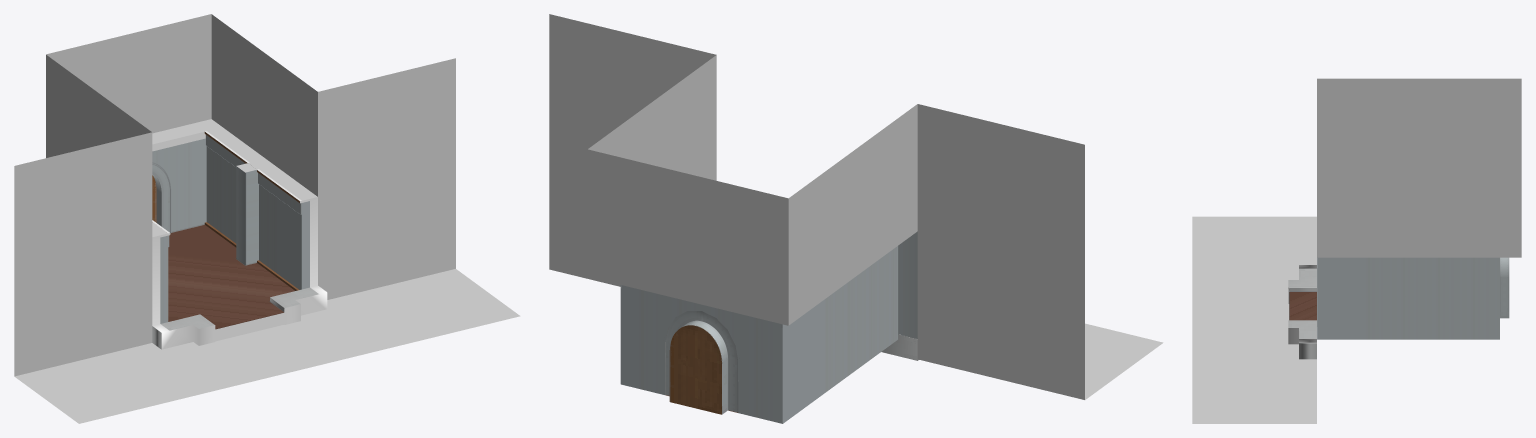
The model's file is a_com_house_a04.gltf.
3 renders of one model, left to right at view 1: azimuth 30°, elevation 25°; view 2: azimuth 150°, elevation 25°; view 3: azimuth 270°, elevation 25°, orthographic. The views are drawn at different scales.
Parts seen in each view (by area): view 1: outside_black_mesh_shape:a_com_house_a04_outside_black01, um_a_com_house_a04_model_a_com_house_a04_modelShape:a_com_ho (×6), nomerge_outside_edge_shape:mat_texture_edge01; view 2: outside_black_mesh_shape:a_com_house_a04_outside_black01, um_a_com_house_a04_model_a_com_house_a04_modelShape:a_com_ho (×4); view 3: outside_black_mesh_shape:a_com_house_a04_outside_black01, um_a_com_house_a04_model_a_com_house_a04_modelShape:a_com_ho (×4), nomerge_outside_edge_shape:mat_texture_edge01.
Boxes of the visible parts, x1,y1,x2,y2 form: outside_black_mesh_shape:a_com_house_a04_outside_black01: (14,14,520,423); um_a_com_house_a04_model_a_com_house_a04_modelShape:a_com_ho (×6): (152,132,318,349); nomerge_outside_edge_shape:mat_texture_edge01: (152,131,327,349); outside_black_mesh_shape:a_com_house_a04_outside_black01: (549,14,1163,399); um_a_com_house_a04_model_a_com_house_a04_modelShape:a_com_ho (×4): (620,231,918,423); outside_black_mesh_shape:a_com_house_a04_outside_black01: (1192,78,1521,423); um_a_com_house_a04_model_a_com_house_a04_modelShape:a_com_ho (×4): (1288,257,1509,359); nomerge_outside_edge_shape:mat_texture_edge01: (1288,265,1316,344).
Bounding box in the file's own units: 14 × 6.42 × 9.4.
Materials: 9 (7 with a texture image).
